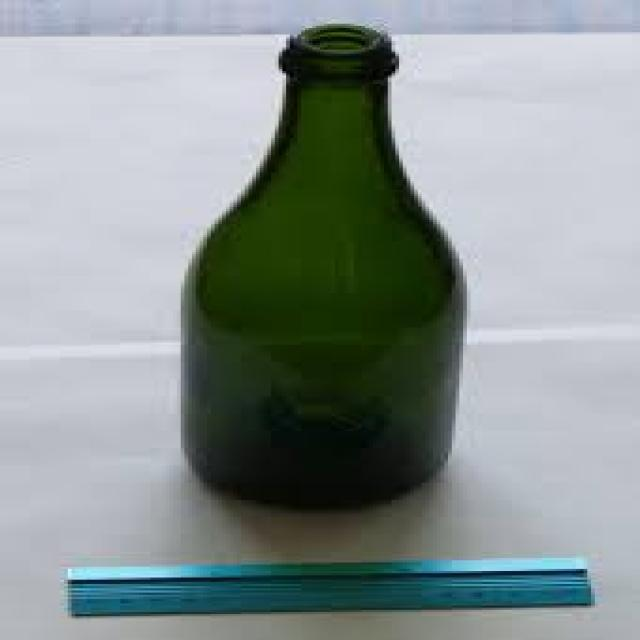glass: (173, 22, 463, 509)
metal: (64, 554, 591, 614)
